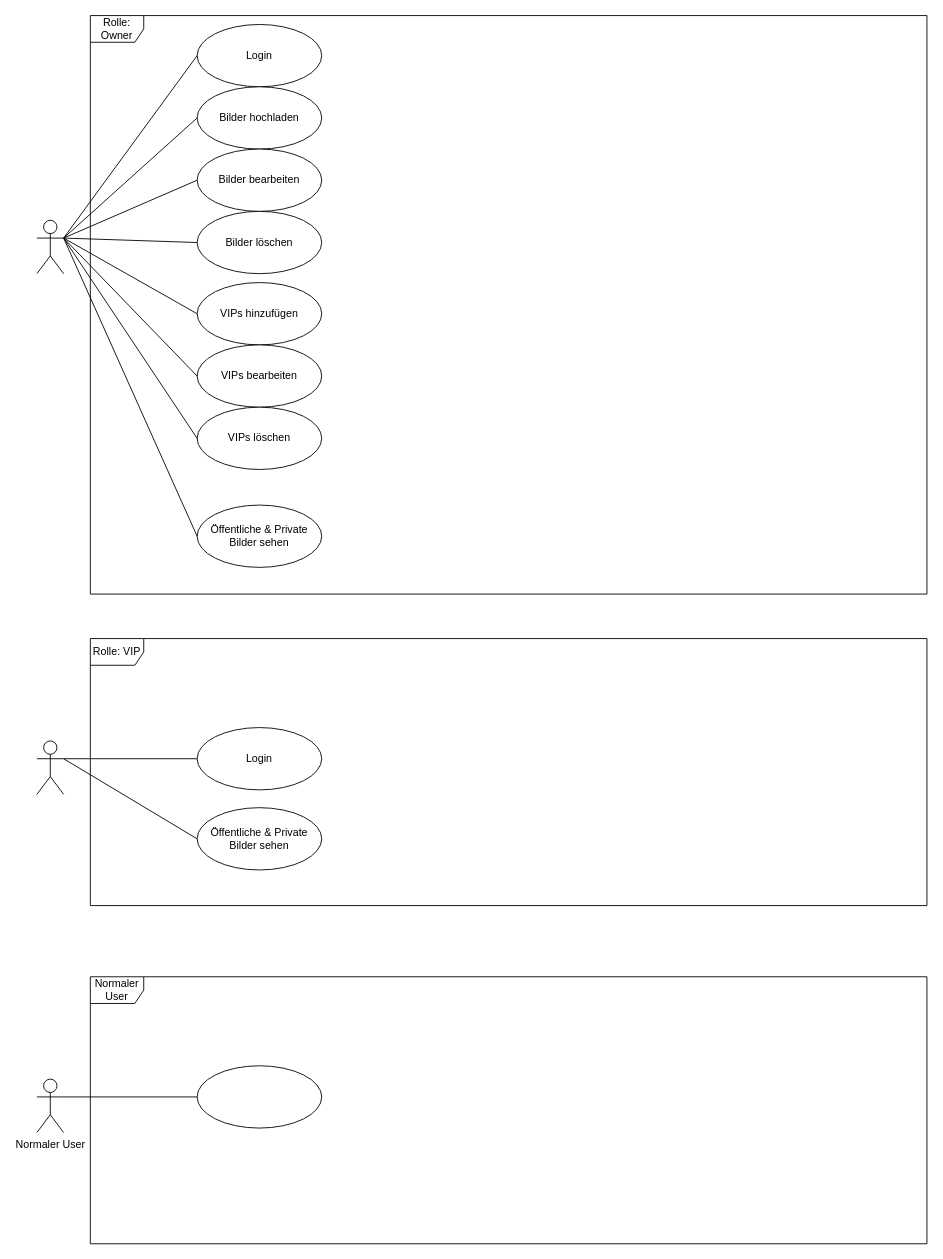
This 943x1259 diagram has some shape labels left out. The shapes that lost their labels are listed below. From the top down, each one's centre as x and y in pixels, then its label:
At [50,246]: "Owner".
At [50,767]: "VIP".
At [259,1096]: "Öffentliche Bilder sehen".
